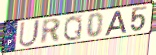0: (86, 12, 105, 39)
5: (130, 6, 149, 33)
A: (104, 9, 128, 37)
Q: (62, 15, 83, 42)
R: (40, 17, 62, 45)
U: (18, 19, 42, 48)
